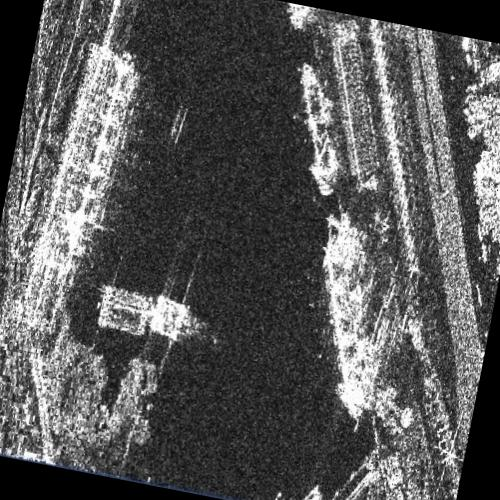ship: (64, 50, 137, 257), (323, 236, 369, 422), (97, 285, 202, 343), (301, 61, 339, 199)
